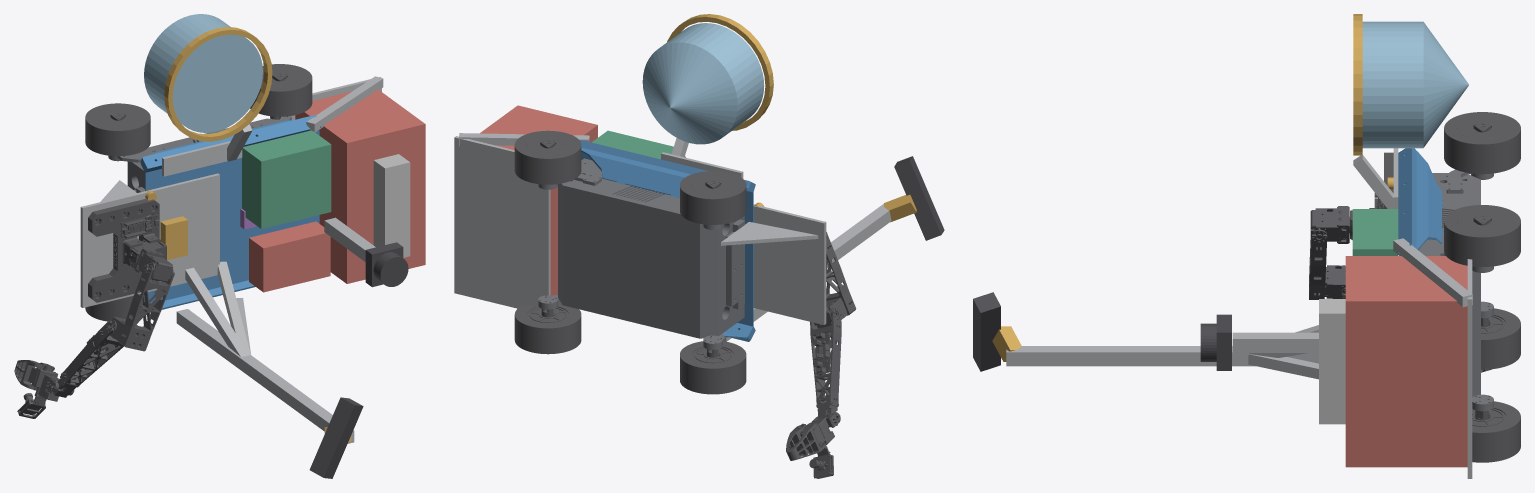
Rendered from assembly_grasp_right.glb.
3 renders of one model, left to right at view 1: azimuth 30°, elevation 25°; view 2: azimuth 150°, elevation 25°; view 3: azimuth 270°, elevation 25°, orthographic. The views are drawn at different scales.
Parts seen in each view (by area): view 1: mod/power_station(~Anker SOLIX C300 class, 24x16x14cm), mod/trash_bag(soft), mod/edge_compute_box(JetsonOrinNano|miniPC), mod/arm_front_plate_6mmAl, wildbot/upper_blue_v1_1, omx_f/link0, mod/power_distribution_box, mod/outlet_strip(3x AC, on top of power station), mod/camera_mast_2020, wildbot/new_wheel_v1__2___1__1, mod/bag_hoop_ring, omx_f/link2 (+18 smaller); view 2: wildbot/base_link, mod/rear_rack_floor, mod/trash_bag(soft), mod/arm_front_plate_6mmAl, wildbot/upper_blue_v1_1, wildbot/new_wheel_v1__1__1, wildbot/new_wheel_v1__2___1__1, wildbot/new_wheel_v1__2__1, mod/power_station(~Anker SOLIX C300 class, 24x16x14cm), wildbot/new_wheel_v1_1, omx_f/link3, mod/camera_D455 (+10 smaller); view 3: mod/power_station(~Anker SOLIX C300 class, 24x16x14cm), mod/trash_bag(soft), mod/camera_mast_2020, wildbot/new_wheel_v1__2___1__1, wildbot/new_wheel_v1__1__1, wildbot/upper_blue_v1_1, mod/outlet_strip(3x AC, on top of power station), wildbot/base_link, wildbot/new_wheel_v1_1, mod/edge_compute_box(JetsonOrinNano|miniPC), wildbot/new_wheel_v1__2__1, mod/camera_D455 (+11 smaller).
Part boxes in pixels (x1,y1,x2,y2): mod/power_station(~Anker SOLIX C300 class, 24x16x14cm): (295,89,425,283); mod/trash_bag(soft): (144,14,262,132); mod/edge_compute_box(JetsonOrinNano|miniPC): (242,130,331,228); mod/arm_front_plate_6mmAl: (80,173,219,307); wildbot/upper_blue_v1_1: (140,115,321,312); omx_f/link0: (88,199,166,302); mod/power_distribution_box: (249,221,330,292); mod/outlet_strip(3x AC, on top of power station): (373,154,410,257); mod/camera_mast_2020: (176,309,354,443); wildbot/new_wheel_v1__2___1__1: (85,103,150,156); mod/bag_hoop_ring: (164,27,272,141); omx_f/link2: (109,261,174,351); wildbot/base_link: (558,158,744,338); mod/rear_rack_floor: (454,136,550,308); mod/trash_bag(soft): (642,23,764,144); mod/arm_front_plate_6mmAl: (753,204,826,324); wildbot/upper_blue_v1_1: (579,139,755,341); wildbot/new_wheel_v1__1__1: (514,130,581,184); wildbot/new_wheel_v1__2___1__1: (680,171,746,224); wildbot/new_wheel_v1__2__1: (680,341,746,394); mod/power_station(~Anker SOLIX C300 class, 24x16x14cm): (480,105,597,295); wildbot/new_wheel_v1_1: (514,302,581,354); omx_f/link3: (810,307,841,427); mod/camera_D455: (894,156,944,240); mod/power_station(~Anker SOLIX C300 class, 24x16x14cm): (1345,256,1467,467); mod/trash_bag(soft): (1362,21,1468,148); mod/camera_mast_2020: (1006,346,1318,366); wildbot/new_wheel_v1__2___1__1: (1444,112,1520,174); wildbot/new_wheel_v1__1__1: (1444,205,1520,266); wildbot/upper_blue_v1_1: (1398,148,1443,254); mod/outlet_strip(3x AC, on top of power station): (1319,299,1345,424); wildbot/base_link: (1418,173,1480,396); wildbot/new_wheel_v1_1: (1472,401,1520,462); mod/edge_compute_box(JetsonOrinNano|miniPC): (1352,209,1398,255); wildbot/new_wheel_v1__2__1: (1481,308,1520,369); mod/camera_D455: (973,292,1000,371).
Size of the model in its own units: 0.6532 by 0.6586 by 0.718.
